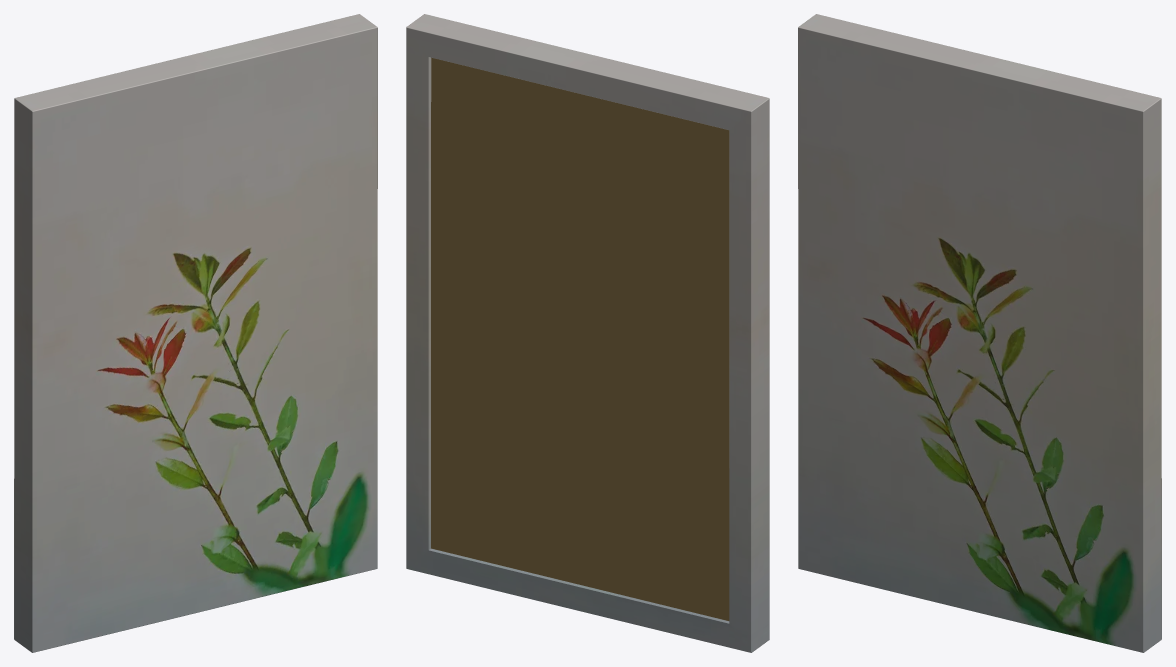
The model's file is abo-B073P13P8Y.glb.
3 views of the same model, side by side, from view 1: azimuth 30°, elevation 25°; view 2: azimuth 150°, elevation 25°; view 3: azimuth 330°, elevation 25° (orthographic).
Bounding box in the file's own units: 0.408 × 0.611 × 0.038.
Materials: 1 (1 with a texture image).
